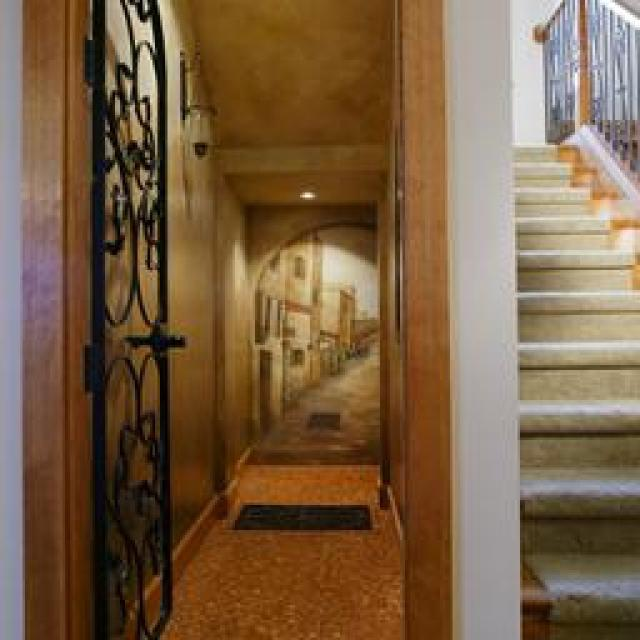back wall: (242, 202, 380, 458)
ceiling beam: (192, 2, 392, 202)
door handle: (22, 0, 92, 635), (395, 2, 450, 635)
door occluded: (230, 500, 372, 532)
floor -X: (158, 460, 400, 638)
gate number: (95, 2, 182, 638)
sair railing: (540, 0, 640, 180)
stair board: (575, 125, 640, 215)
stairway: (512, 140, 640, 638)
wakk: (510, 0, 560, 140)
wall clock: (90, 0, 250, 632), (442, 0, 518, 638), (2, 0, 22, 638), (382, 78, 398, 512)
wall mirror: (178, 30, 212, 168)
